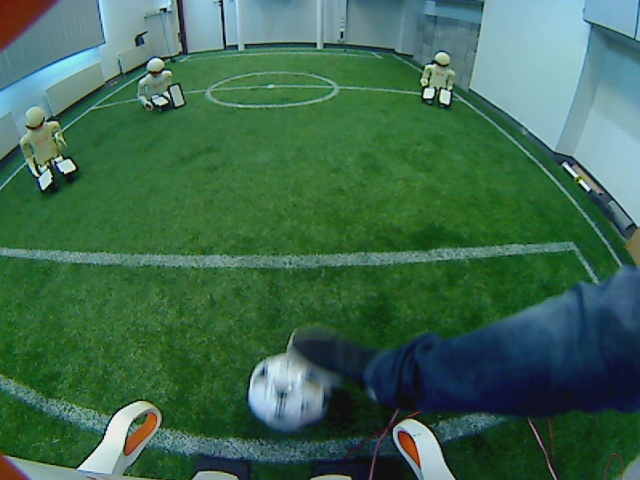ball: (243, 348, 335, 433)
robot: (14, 105, 81, 194), (133, 53, 188, 114), (417, 49, 461, 114)
